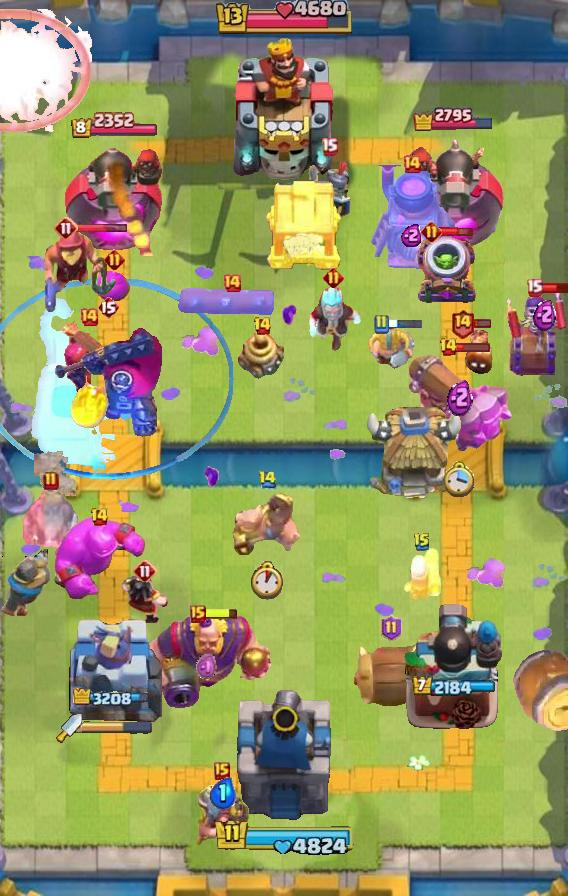bandit: (192, 777, 252, 849)
bar: (66, 611, 162, 731)
barbarian-evolution: (0, 8, 92, 132)
bomb: (264, 177, 344, 271)
bomber: (463, 329, 495, 377)
clock: (210, 817, 358, 859), (213, 0, 355, 38)
clone: (51, 515, 147, 601)
dirt: (510, 647, 568, 733)
electro-spirit: (447, 376, 473, 415), (209, 777, 235, 809), (533, 297, 556, 330), (196, 653, 219, 681), (401, 223, 423, 247)
elixir: (249, 560, 287, 599), (443, 459, 477, 497)
emote: (76, 222, 128, 233), (388, 317, 425, 330), (438, 226, 474, 239), (203, 608, 239, 621), (455, 343, 491, 354), (540, 282, 567, 295), (473, 318, 492, 329)
fireball: (41, 224, 119, 316)
firecracker: (0, 550, 52, 619)
fisherman: (34, 450, 78, 498)
freeze: (230, 491, 304, 555)
furnace: (406, 352, 514, 452)
goblin-cage: (414, 236, 478, 306)
goblin-drill: (237, 333, 287, 381)
goblin-giant: (367, 327, 415, 370)
hunter: (367, 165, 457, 273)
inferno-tower: (52, 323, 164, 437)
king-tower: (228, 35, 340, 181), (232, 686, 336, 826)
king-tower-bar: (82, 721, 152, 735)
lightning: (138, 612, 276, 708)
lumberjack: (119, 572, 171, 626)
mega-minion: (59, 319, 119, 399)
miner: (98, 271, 130, 301)
minion: (178, 284, 286, 320)
mortar: (303, 281, 363, 351)
mortar-evolution: (22, 486, 80, 554)
pad_0: (0, 279, 235, 481)
prince: (364, 407, 466, 503)
princess: (306, 160, 352, 222)
selected: (69, 112, 158, 140), (413, 105, 496, 131), (411, 676, 495, 698), (73, 688, 155, 710)
skeleton-king-bar: (506, 287, 568, 379)
text: (449, 308, 474, 339), (54, 216, 78, 240), (133, 559, 157, 583), (382, 615, 403, 641), (97, 295, 119, 319), (323, 267, 344, 289), (421, 222, 442, 243), (103, 250, 124, 271), (402, 154, 422, 174), (222, 273, 242, 293), (79, 307, 99, 327), (253, 316, 272, 336), (438, 337, 457, 357), (258, 470, 278, 489), (90, 507, 109, 527), (413, 532, 431, 552), (321, 136, 339, 155), (525, 279, 543, 298), (373, 314, 389, 334), (43, 471, 59, 491), (190, 605, 206, 623), (214, 762, 230, 780)
the-log: (346, 642, 436, 710)
tombstone: (401, 545, 443, 603)
tower-bar: (401, 132, 508, 256), (403, 601, 503, 731), (63, 138, 164, 256)
valkyrie: (68, 366, 110, 432)
